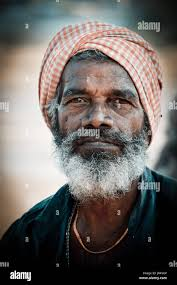s.black: (108, 110, 147, 155)
